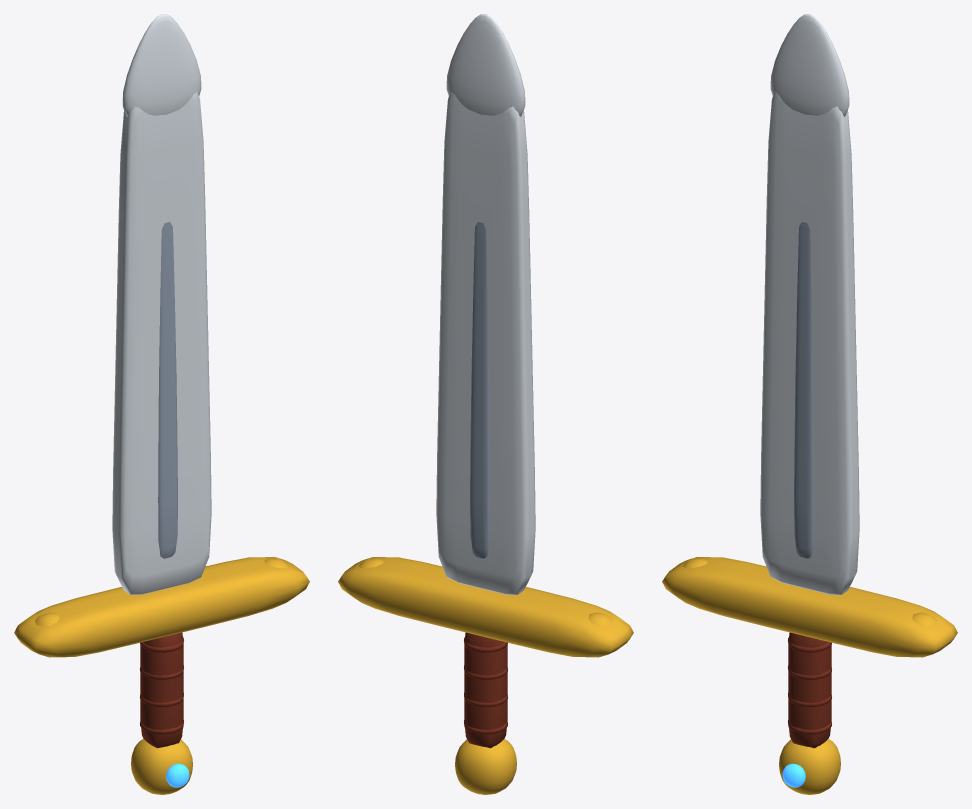
File: sword.glb
3 views of the same model, side by side, from view 1: azimuth 30°, elevation 25°; view 2: azimuth 150°, elevation 25°; view 3: azimuth 330°, elevation 25° (orthographic).
Visible parts, largest first — view 1: WP_SwordBody; view 2: WP_SwordBody; view 3: WP_SwordBody.
Boxes of the visible parts, <box> form: WP_SwordBody: <box>14,14,309,794</box>; WP_SwordBody: <box>338,14,633,794</box>; WP_SwordBody: <box>662,14,957,794</box>.
Bounding box in the file's own units: 0.4269 × 1.14 × 0.0983.
